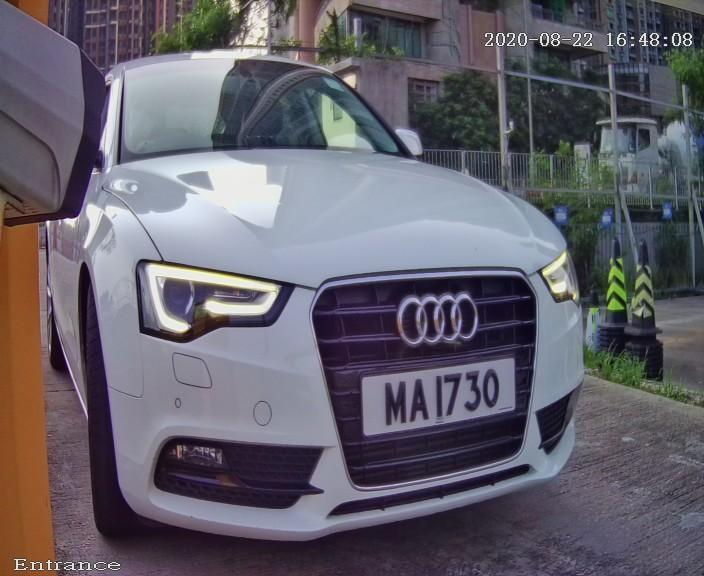Car: (13, 8, 639, 571)
License Plate: (314, 338, 534, 454)
